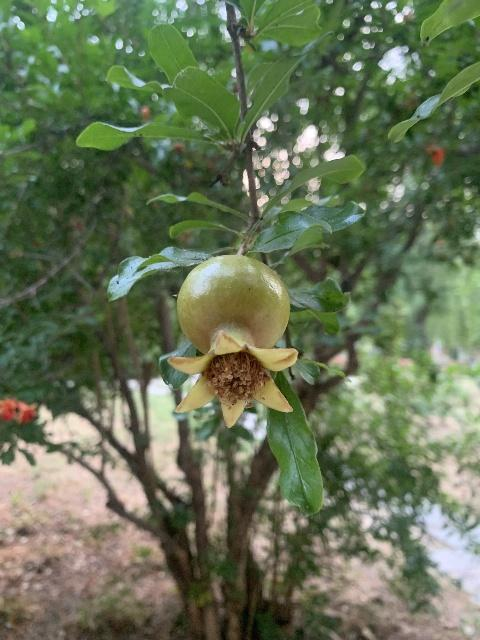flower: (17, 400, 39, 424), (0, 398, 16, 419)
mid-growth: (167, 254, 299, 429)
